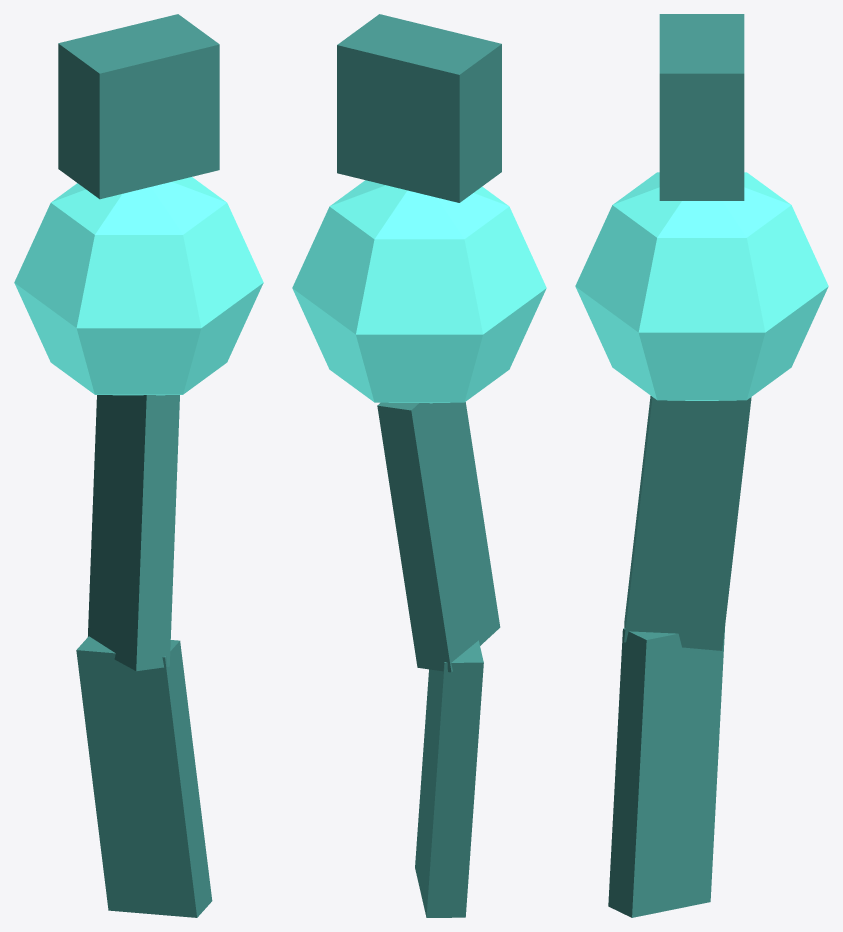
Rendered from gear_norigae_t2_R.glb.
The picture shows the model from 3 angles, left to right: view 1: azimuth 30°, elevation 25°; view 2: azimuth 150°, elevation 25°; view 3: azimuth 270°, elevation 25°; orthographic projection. The views are drawn at different scales.
Visible parts, largest first — view 1: gear_norigae_t2_R; view 2: gear_norigae_t2_R; view 3: gear_norigae_t2_R.
Boxes of the visible parts, x1=… form: gear_norigae_t2_R: x1=14, y1=14, x2=263, y2=917; gear_norigae_t2_R: x1=292, y1=14, x2=546, y2=917; gear_norigae_t2_R: x1=575, y1=14, x2=828, y2=917.
Size of the model in its own units: 0.0779 by 0.3391 by 0.09.
